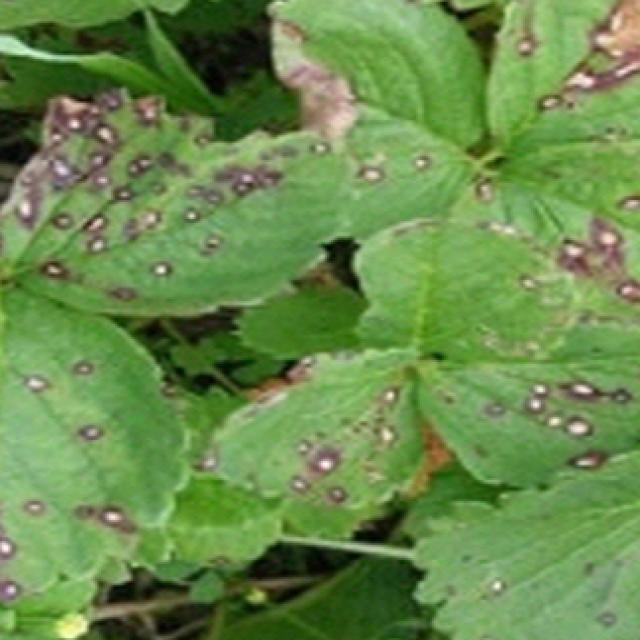Leaf Spot: (0, 80, 368, 318), (0, 279, 194, 609), (264, 0, 487, 244), (405, 445, 640, 640), (448, 144, 640, 363), (201, 350, 429, 508), (348, 216, 580, 365), (414, 353, 640, 490), (481, 0, 640, 160)
